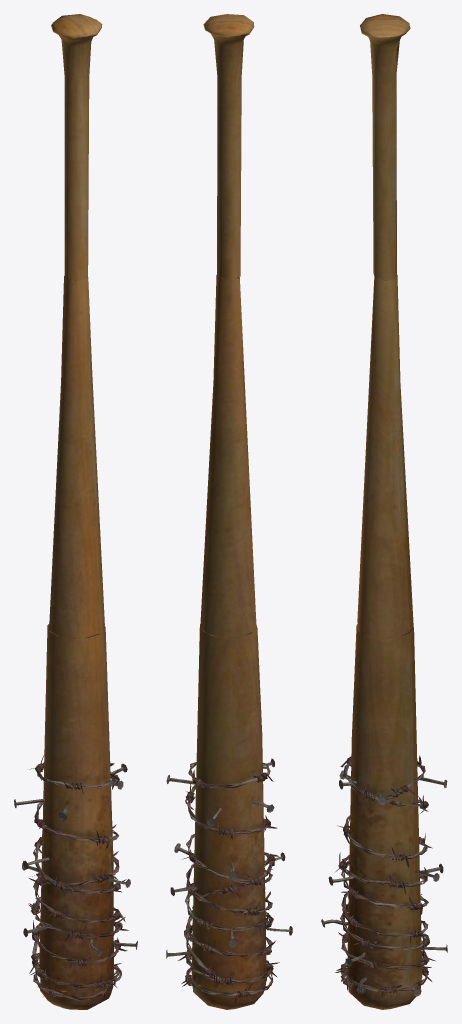
Rendered from w_bat.glb.
3 renders of one model, left to right at view 1: azimuth 90°, elevation 25°; view 2: azimuth 150°, elevation 25°; view 3: azimuth 330°, elevation 25°, orthographic.
Parts seen in each view (by area): view 1: Weapon_Bat_02_Material #25_0; view 2: Weapon_Bat_02_Material #25_0; view 3: Weapon_Bat_02_Material #25_0.
Boxes of the visible parts, box(x1,y1,x2,y2) form: Weapon_Bat_02_Material #25_0: box(14, 14, 137, 1009); Weapon_Bat_02_Material #25_0: box(166, 14, 292, 1009); Weapon_Bat_02_Material #25_0: box(321, 14, 447, 1009).
Bounding box in the file's own units: 0.1034 × 0.9003 × 0.1028.
1 material, 1 textured.
